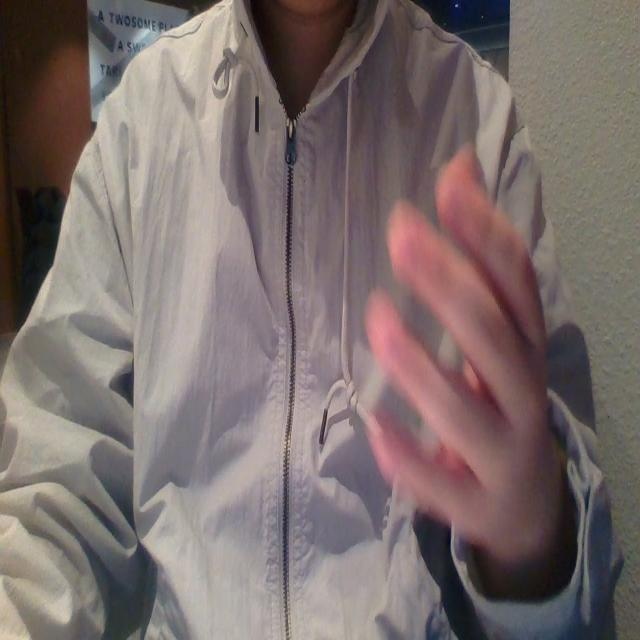hand: (359, 122, 567, 605)
